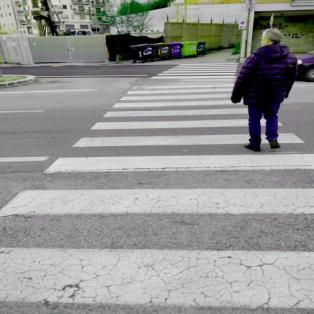Paso de Cebra: (0, 186, 314, 314), (70, 118, 308, 148), (118, 88, 243, 102)
